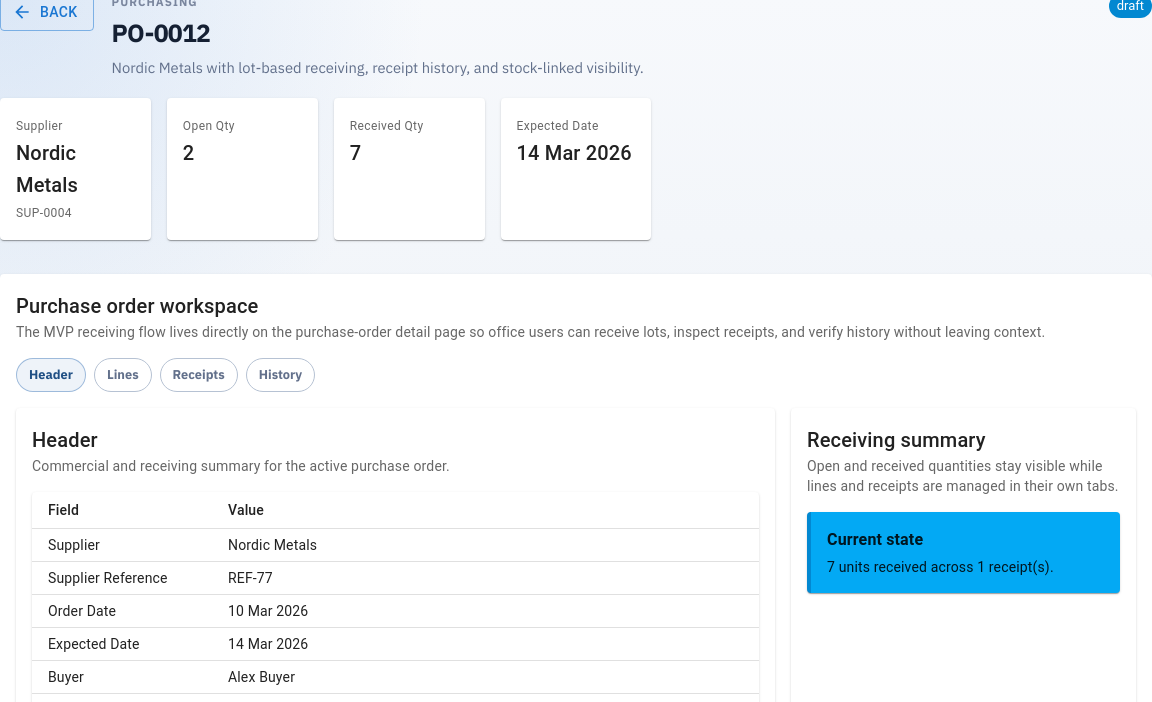
Test: PurchaseOrderDetailView › renders purchase order lines with ordered, received, and remaining quantities
Expected: the heading "PO-0012" is shown, x1=112 y1=17 x2=210 y2=49
Click the button "Lines": (123, 375) x1=94 y1=358 x2=152 y2=392
(page scrolled)
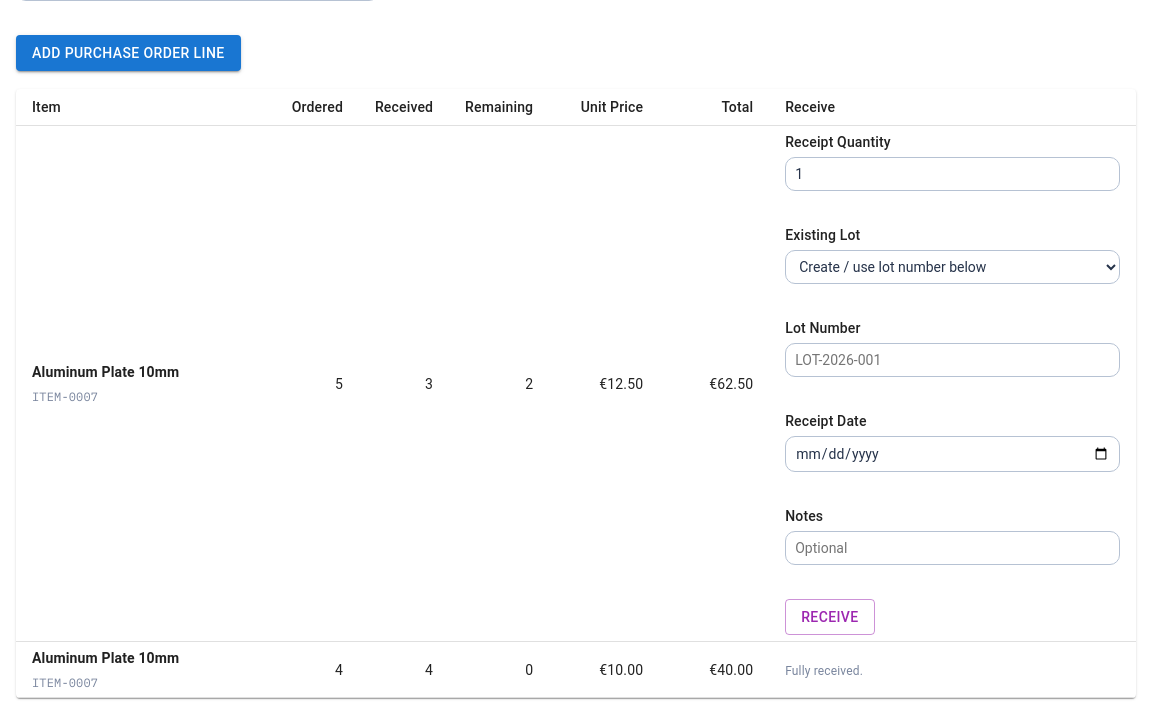
Expected: the 2nd row is shown
Expected: the text "ITEM-0007" in the row of "€12.50" is shown, x1=32 y1=389 x2=98 y2=404
Expected: the text "Fully received." is shown, x1=785 y1=664 x2=863 y2=678
